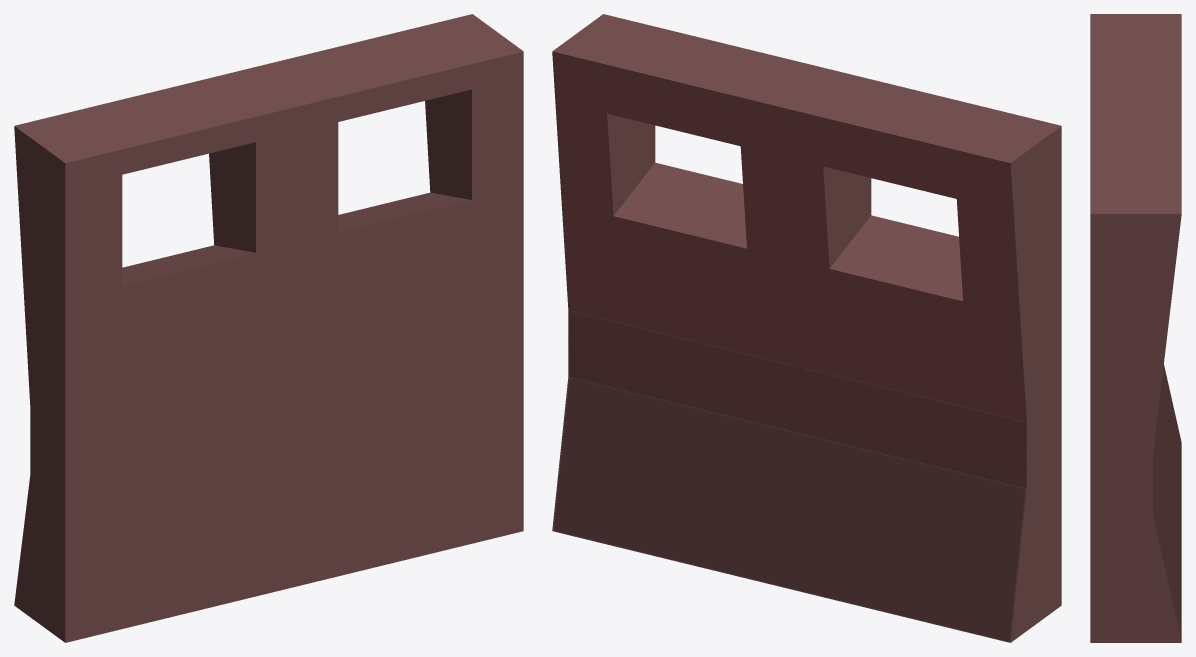
The model's file is backGround.obj.
3 views of the same model, side by side, from view 1: azimuth 30°, elevation 25°; view 2: azimuth 150°, elevation 25°; view 3: azimuth 270°, elevation 25° (orthographic). The views are drawn at different scales.
Parts seen in each view (by area): view 1: Cube; view 2: Cube; view 3: Cube.
Part boxes in pixels (x1,y1,x2,y2): Cube: [14, 14, 523, 642]; Cube: [552, 14, 1061, 642]; Cube: [1090, 14, 1181, 642].
Bounding box in the file's own units: 30 × 30 × 5.8.
Materials: 1 (1 with a texture image).
